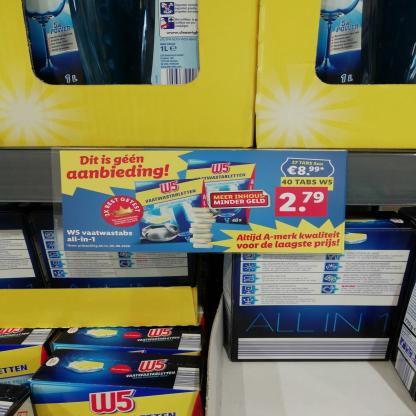prtg: (60, 152, 348, 256)
